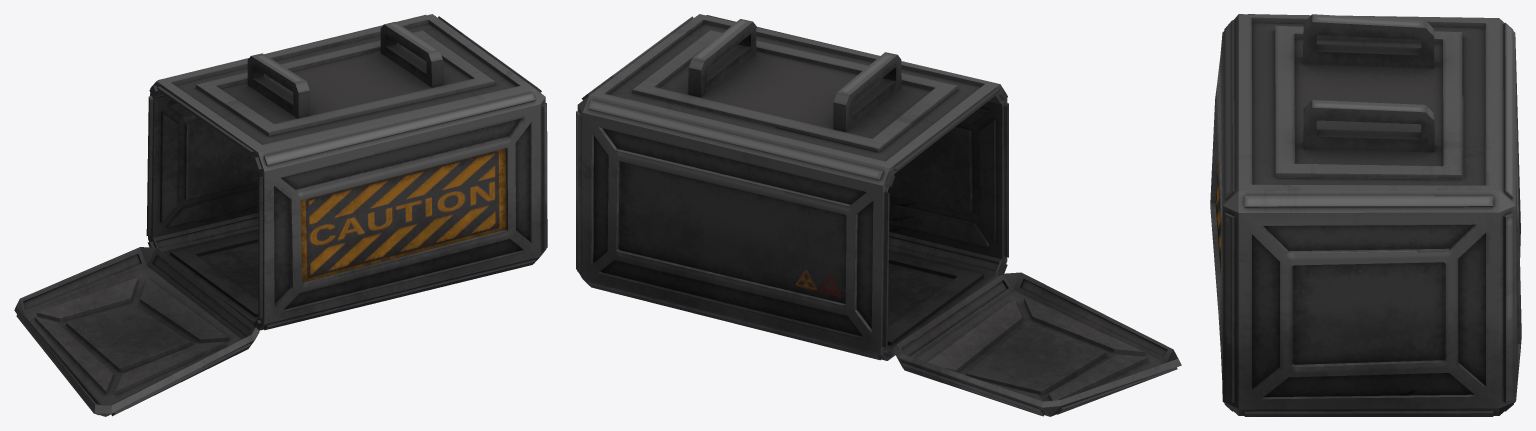
File: CreatureCage_Opened.fbx
The picture shows the model from 3 angles, left to right: view 1: azimuth 30°, elevation 25°; view 2: azimuth 150°, elevation 25°; view 3: azimuth 270°, elevation 25°; orthographic projection. The views are drawn at different scales.
Visible parts, largest first — view 1: Box001, Object001; view 2: Box001, Object001; view 3: Box001.
Boxes of the visible parts, left/top/right/bottom form: Box001: left=146, top=14, right=547, bottom=330; Object001: left=14, top=247, right=259, bottom=416; Box001: left=576, top=14, right=1008, bottom=360; Object001: left=892, top=272, right=1181, bottom=416; Box001: left=1210, top=14, right=1521, bottom=416.
Bounding box in the file's own units: 545 × 289 × 247.
